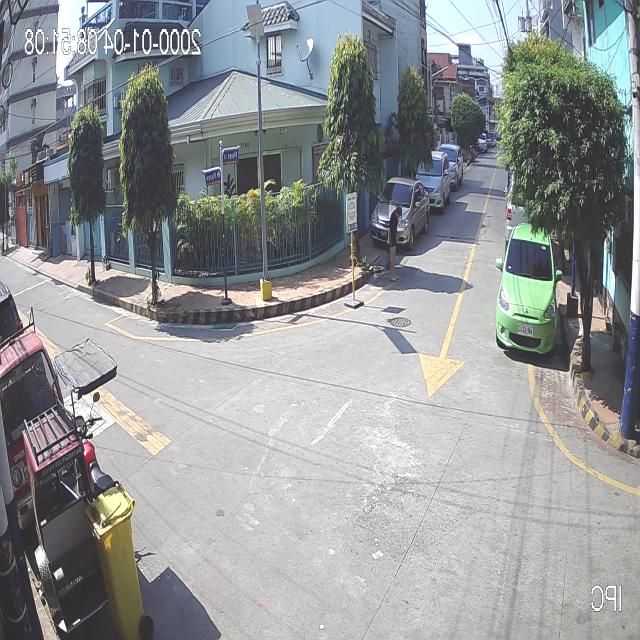walking: (384, 203, 404, 283)
